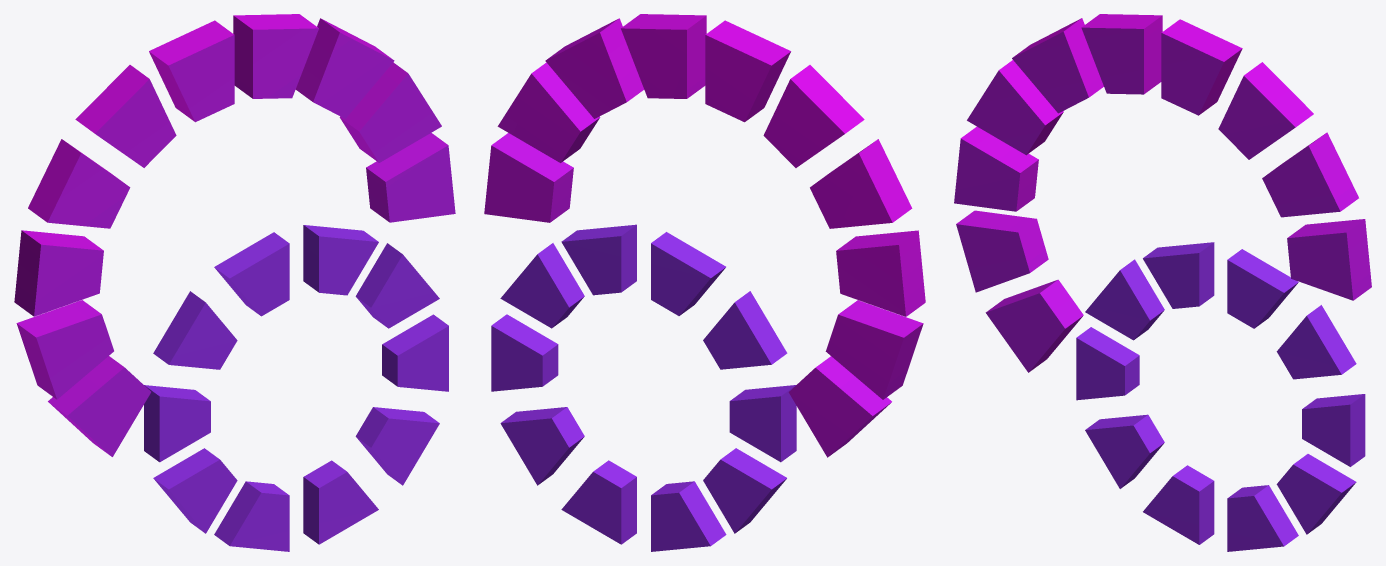
File: OMI.fbx
The picture shows the model from 3 angles, left to right: view 1: azimuth 30°, elevation 25°; view 2: azimuth 150°, elevation 25°; view 3: azimuth 330°, elevation 25°; orthographic projection. The views are drawn at different scales.
Visible parts, largest first — view 1: omilogo; view 2: omilogo; view 3: omilogo.
Boxes of the visible parts, x1=… form: omilogo: x1=14, y1=14, x2=455, y2=551; omilogo: x1=484, y1=14, x2=925, y2=551; omilogo: x1=954, y1=14, x2=1371, y2=551.
Size of the model in its own units: 299 by 361 by 24.16.
Materials: 1 (1 with a texture image).
